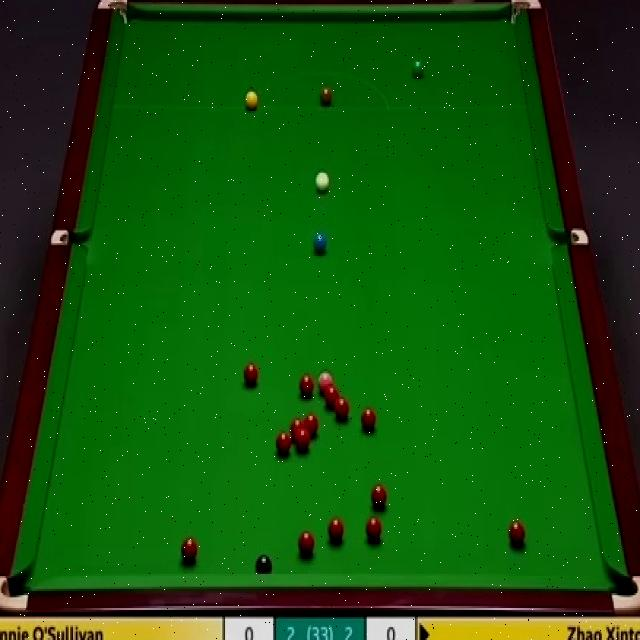black-ball: (257, 552, 275, 578)
blue-ball: (314, 234, 328, 254)
brown-ball: (318, 87, 332, 107)
green-ball: (410, 58, 425, 81)
pink-ball: (317, 369, 333, 393)
red-ball: (369, 482, 388, 511), (365, 514, 383, 544), (508, 520, 527, 548), (297, 531, 316, 557), (180, 535, 198, 562), (328, 515, 345, 543), (242, 360, 258, 388), (298, 372, 315, 398), (334, 398, 350, 424), (361, 406, 377, 432), (295, 426, 311, 451), (275, 431, 291, 455), (305, 412, 320, 437), (323, 386, 340, 406), (290, 418, 305, 436)
white-ball: (314, 169, 331, 195)
yellow-ball: (244, 87, 258, 111)
